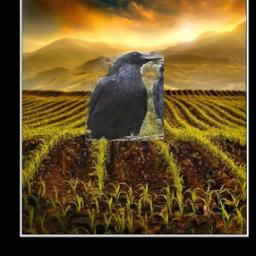Crow: (85, 52, 164, 142)
